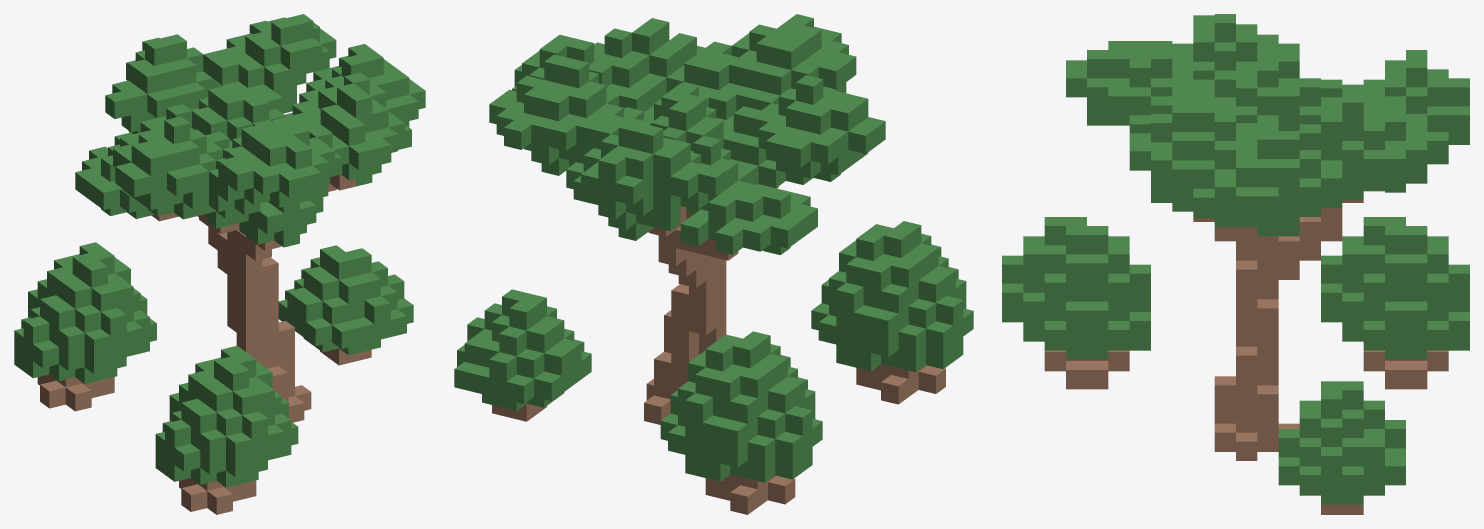
Rendered from tree_b_v1.fbx.
3 views of the same model, side by side, from view 1: azimuth 30°, elevation 25°; view 2: azimuth 150°, elevation 25°; view 3: azimuth 270°, elevation 25° (orthographic). The views are drawn at different scales.
Visible parts, largest first — view 1: tree_b; view 2: tree_b; view 3: tree_b.
Part boxes in pixels (x1,y1,x2,y2): tree_b: [14, 14, 425, 514]; tree_b: [454, 14, 973, 514]; tree_b: [1002, 14, 1469, 514].
Bounding box in the file's own units: 21 × 20 × 22.
